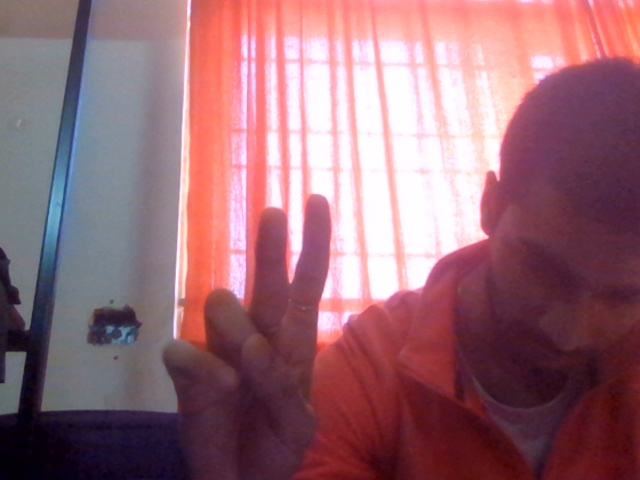V: (156, 168, 400, 480)
